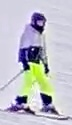skier: (1, 11, 72, 120)
